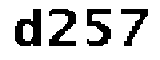2: (46, 5, 81, 50)
5: (83, 6, 115, 51)
7: (117, 6, 152, 52)
d: (10, 4, 44, 51)
